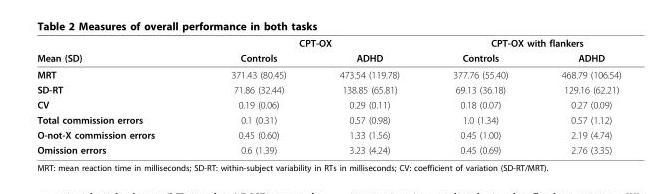table: (36, 36, 620, 155)
table column: (36, 36, 192, 155), (192, 36, 312, 155), (312, 36, 425, 155), (425, 36, 534, 155), (534, 36, 620, 155)
table column header: (36, 36, 620, 65)
table row: (36, 65, 620, 81), (36, 126, 620, 142), (36, 50, 620, 65), (36, 81, 620, 96), (36, 96, 620, 111), (36, 111, 620, 126), (36, 36, 620, 50), (36, 142, 620, 155)
table spanning cell: (36, 36, 192, 65), (192, 36, 425, 50), (425, 36, 620, 50)
